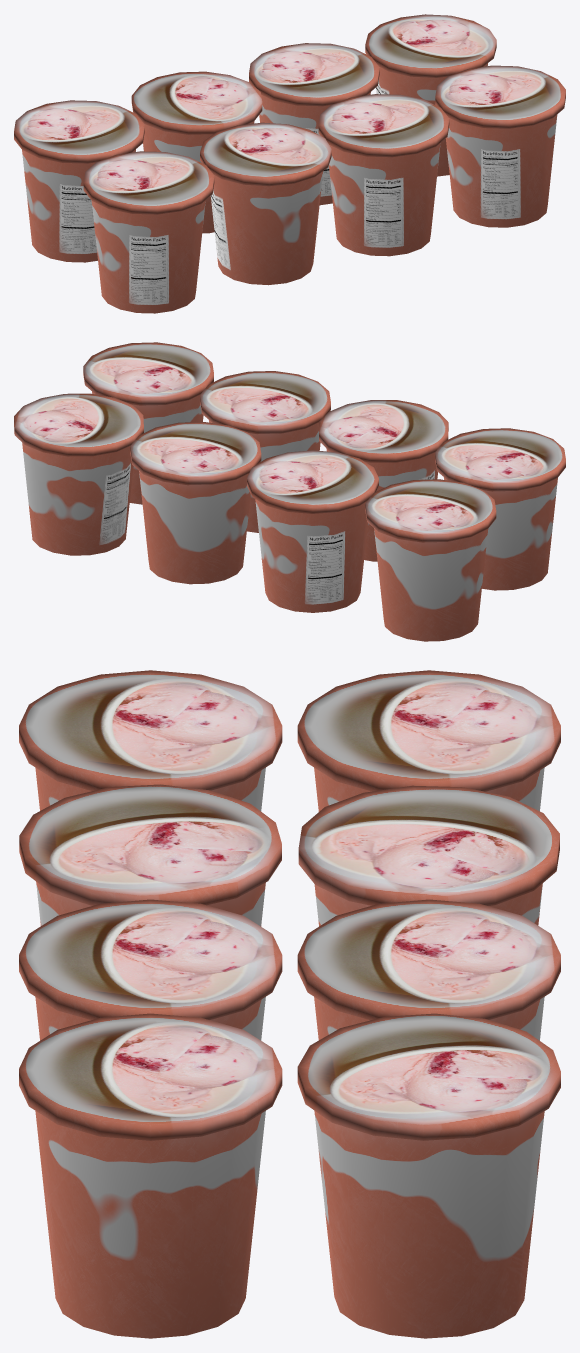
File: iceCream_Large.fbx
3 views of the same model, one above another, from view 1: azimuth 30°, elevation 25°; view 2: azimuth 150°, elevation 25°; view 3: azimuth 270°, elevation 25° (orthographic). The views are drawn at different scales.
Visible parts, largest first — view 1: Ice Cream_Large; view 2: Ice Cream_Large; view 3: Ice Cream_Large.
Part boxes in pixels (left/top/right/bottom): Ice Cream_Large: left=14, top=14, right=565, bottom=313; Ice Cream_Large: left=14, top=342, right=565, bottom=641; Ice Cream_Large: left=19, top=670, right=560, bottom=1338.
Size of the model in its own units: 520 by 122 by 262.
Materials: 1 (1 with a texture image).
